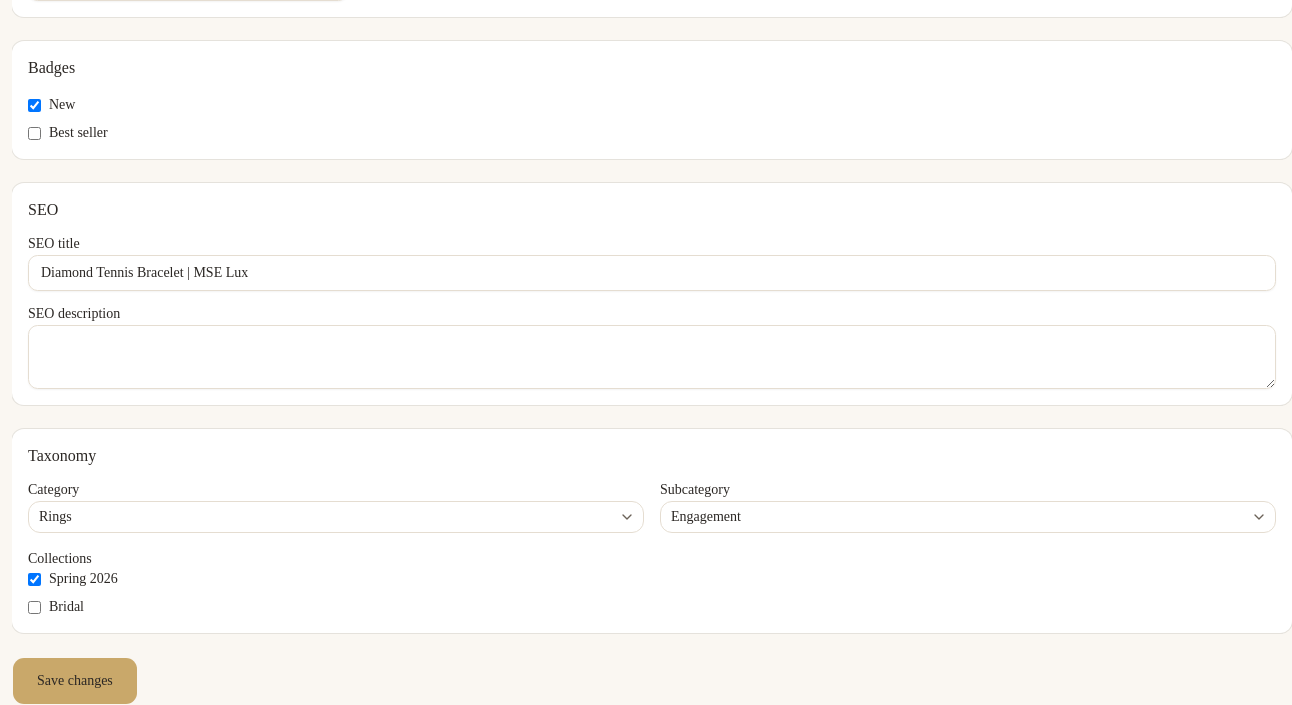
Test: ProductForm › subcategory select lists the current category's subcategories
(page scrolled)
Click the dropdown named "Subcategory" at (706, 516), box [660,501,1276,533]
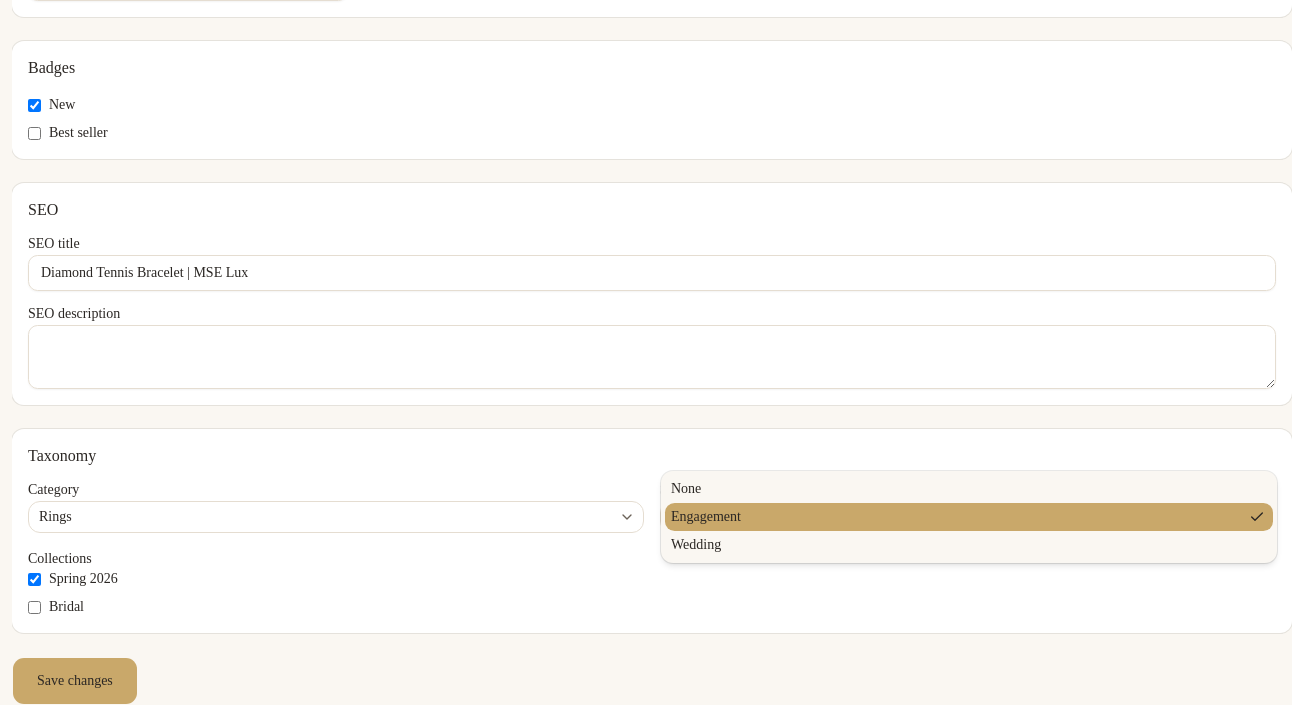
Check: the option "Engagement" is shown, box [665,503,1273,531]
Check: the option "Wedding" is shown, box [671,537,721,552]
